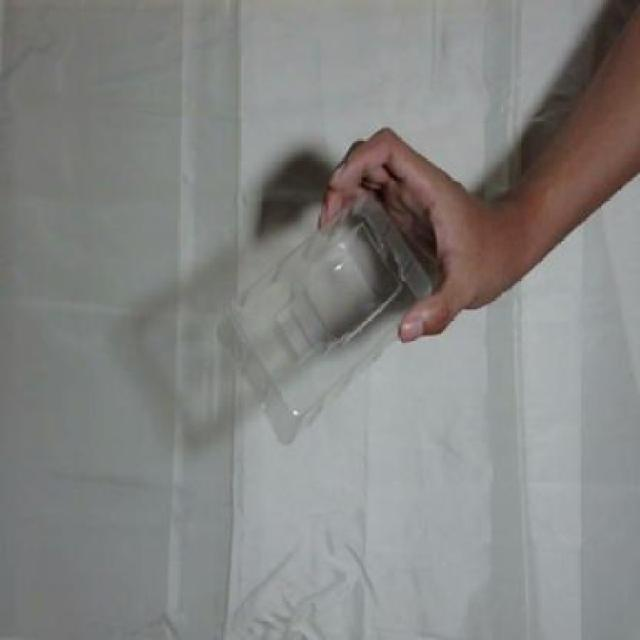Plastic: (216, 190, 434, 446)
